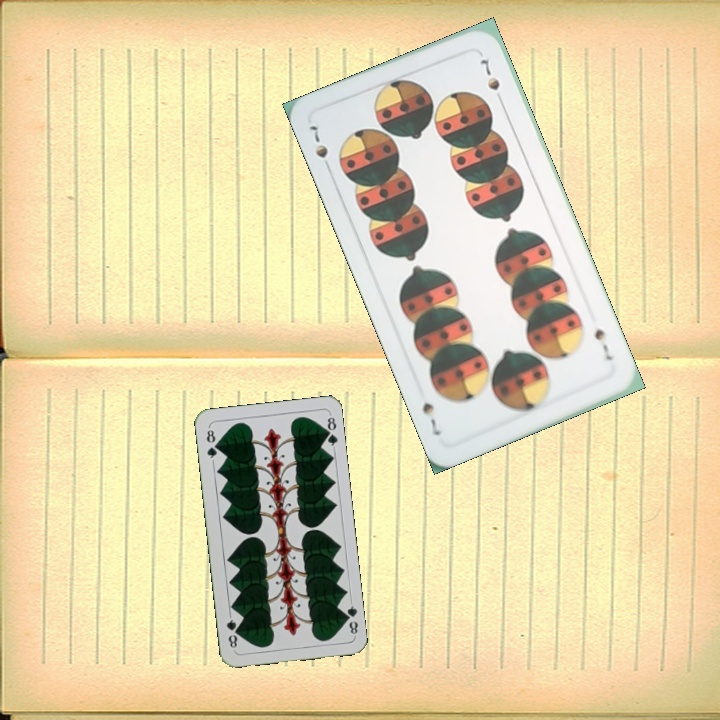G8: (340, 598, 360, 638), (202, 423, 220, 464)
S7: (306, 121, 334, 175), (590, 325, 616, 364)
